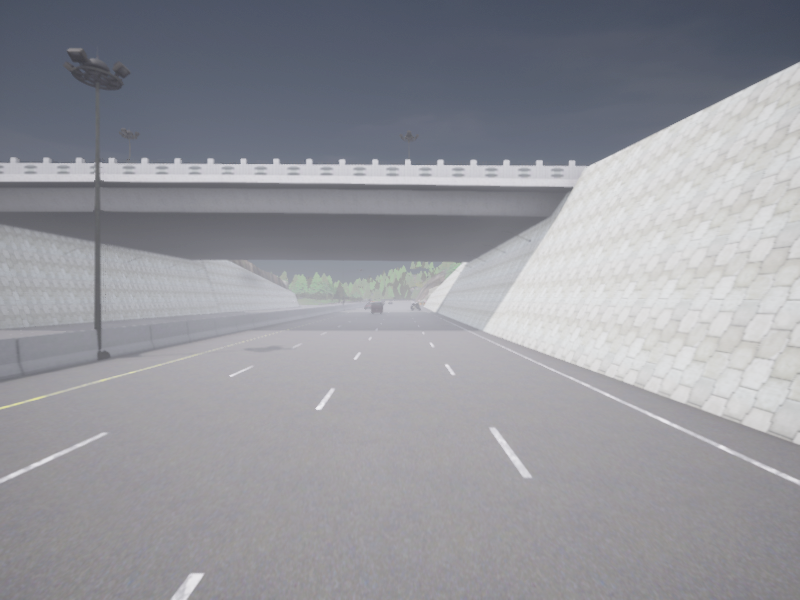vehicle: (371, 302, 382, 313), (410, 302, 419, 310), (365, 303, 371, 308), (388, 301, 392, 304), (381, 301, 384, 304)
